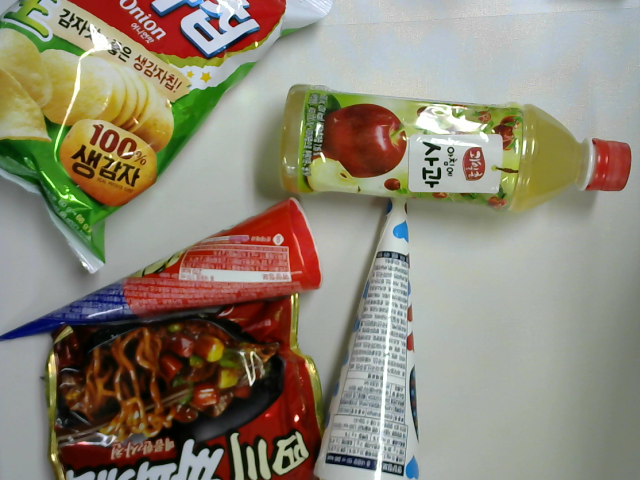Bravo_Cone_(Banila)_CVS: (302, 165, 425, 480)
Morning_Apple_500ml: (270, 77, 640, 211)
Pocachip_Onion: (1, 1, 339, 284)
Sichuan_Chapaghetti: (40, 284, 337, 480)
World_Cone_Banila: (1, 192, 332, 351)
